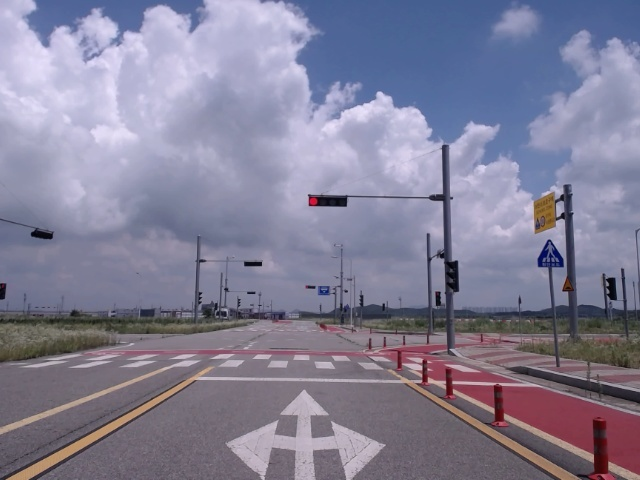red_4: (309, 196, 347, 208)
